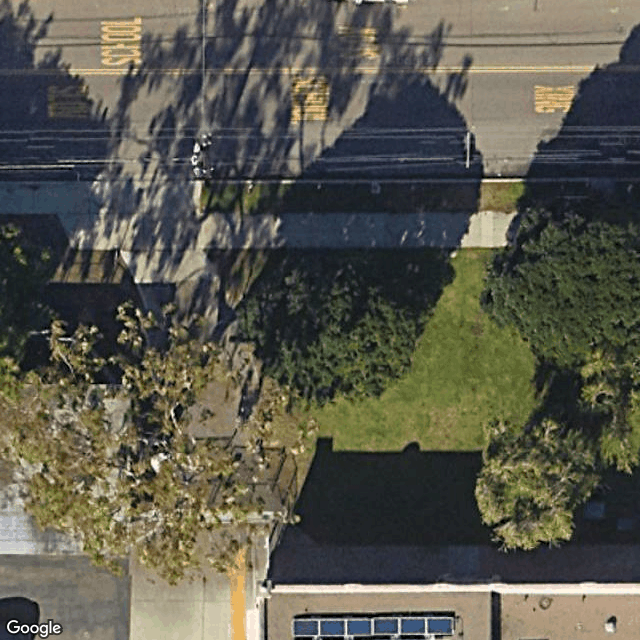palm: (473, 409, 593, 557)
